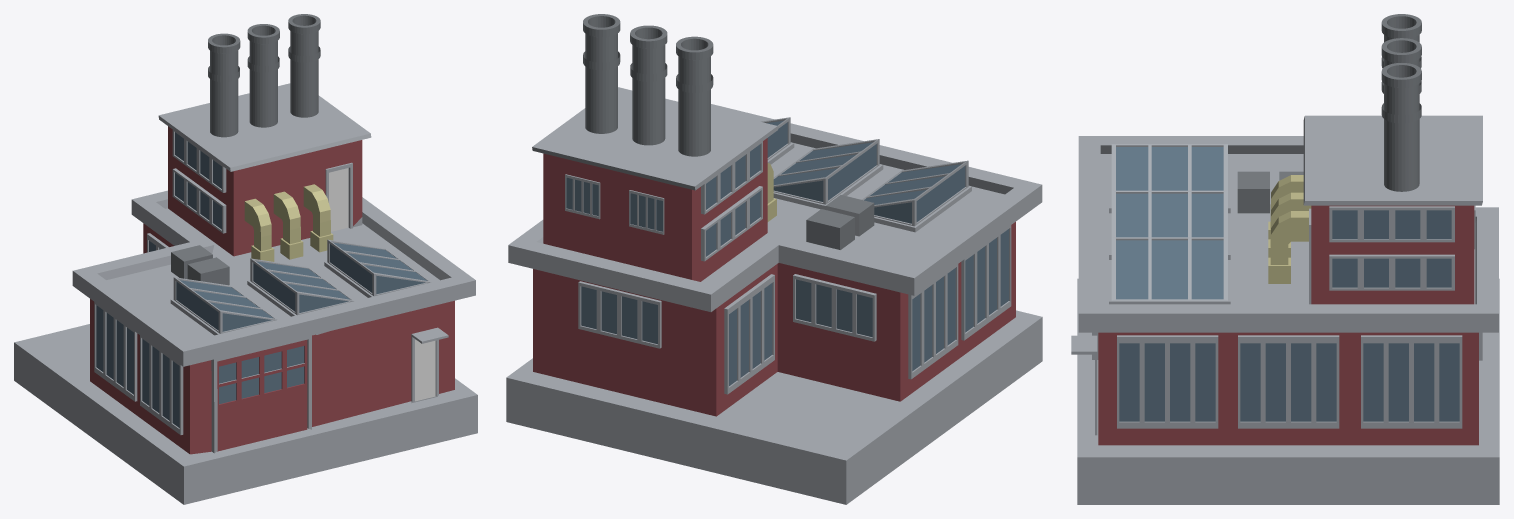
The model's file is factory1.glb.
The picture shows the model from 3 angles, left to right: view 1: azimuth 30°, elevation 25°; view 2: azimuth 150°, elevation 25°; view 3: azimuth 270°, elevation 25°; orthographic projection. The views are drawn at different scales.
Parts seen in each view (by area): view 1: Factory; view 2: Factory; view 3: Factory.
Boxes of the visible parts, x1=… form: Factory: x1=14, y1=14, x2=477, y2=504; Factory: x1=506, y1=14, x2=1042, y2=504; Factory: x1=1071, y1=14, x2=1499, y2=504.
Size of the model in its own units: 0.9988 by 1.06 by 1.01.
